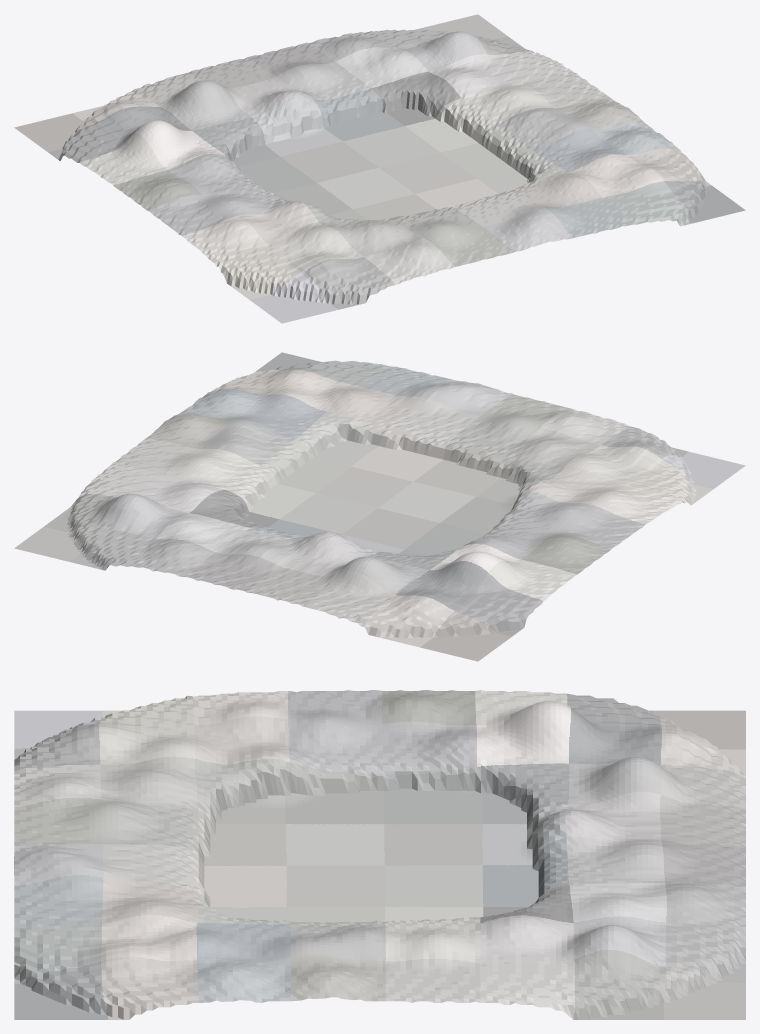
Rendered from CraterTerrain.fbx.
3 views of the same model, one above another, from view 1: azimuth 30°, elevation 25°; view 2: azimuth 150°, elevation 25°; view 3: azimuth 270°, elevation 25° (orthographic). The views are drawn at different scales.
Visible parts, largest first — view 1: Landscape; view 2: Landscape; view 3: Landscape.
Part boxes in pixels (x1=…): Landscape: x1=14, y1=14, x2=745, y2=323; Landscape: x1=14, y1=352, x2=745, y2=661; Landscape: x1=14, y1=690, x2=745, y2=1019.
Bounding box in the file's own units: 2 × 0.16 × 2.
Materials: 1 (1 with a texture image).
